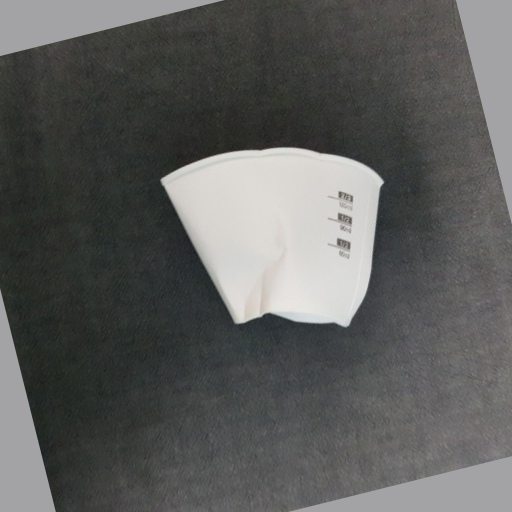Paper_1: (161, 145, 383, 331)
